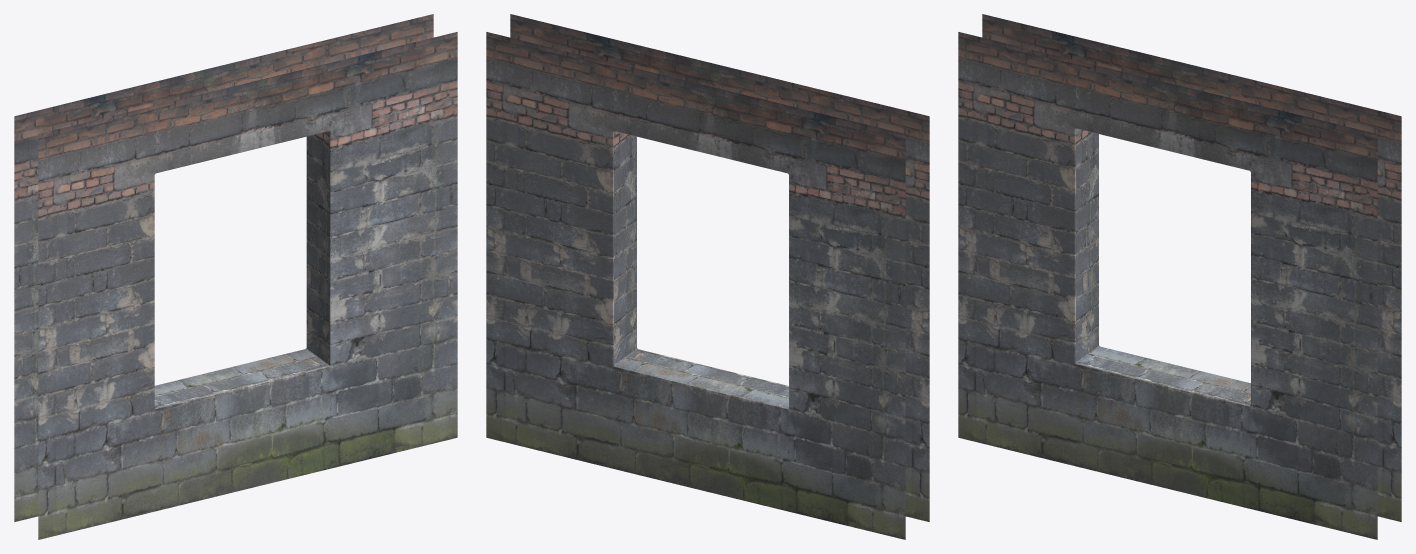
The model's file is sm_Wall_06_10.fbx.
3 renders of one model, left to right at view 1: azimuth 30°, elevation 25°; view 2: azimuth 150°, elevation 25°; view 3: azimuth 330°, elevation 25°, orthographic.
Visible parts, largest first — view 1: sm_Wall_06_10_LOD0; view 2: sm_Wall_06_10_LOD0; view 3: sm_Wall_06_10_LOD0.
Part boxes in pixels (bbox=[...]): sm_Wall_06_10_LOD0: bbox=[14, 14, 457, 539]; sm_Wall_06_10_LOD0: bbox=[486, 14, 929, 539]; sm_Wall_06_10_LOD0: bbox=[958, 14, 1401, 539].
Bounding box in the file's own units: 40.31 × 400 × 370.
